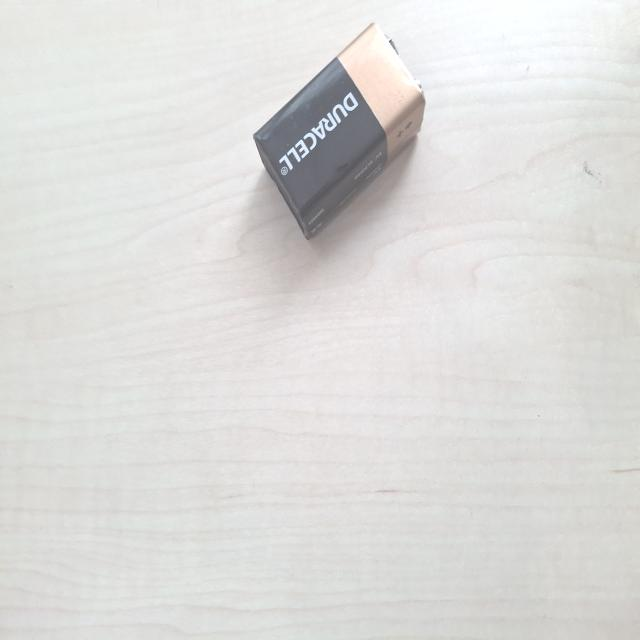9V: (298, 338, 462, 564)
